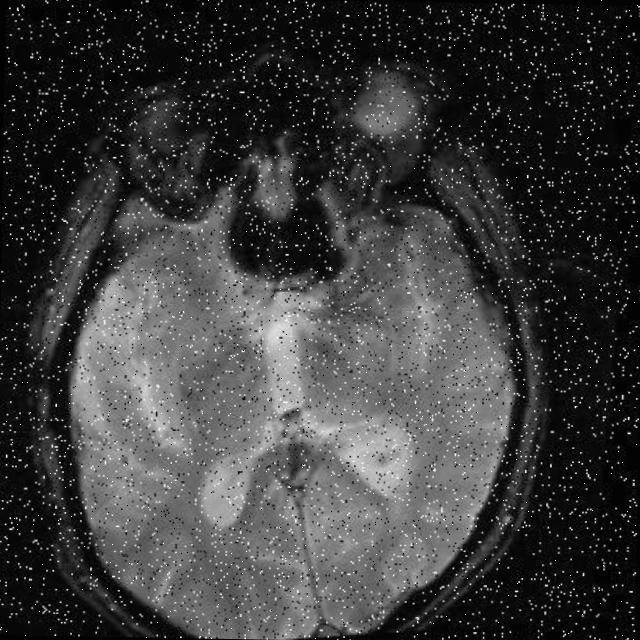CN: (93, 300, 190, 455)
LMCI: (375, 223, 447, 390)
